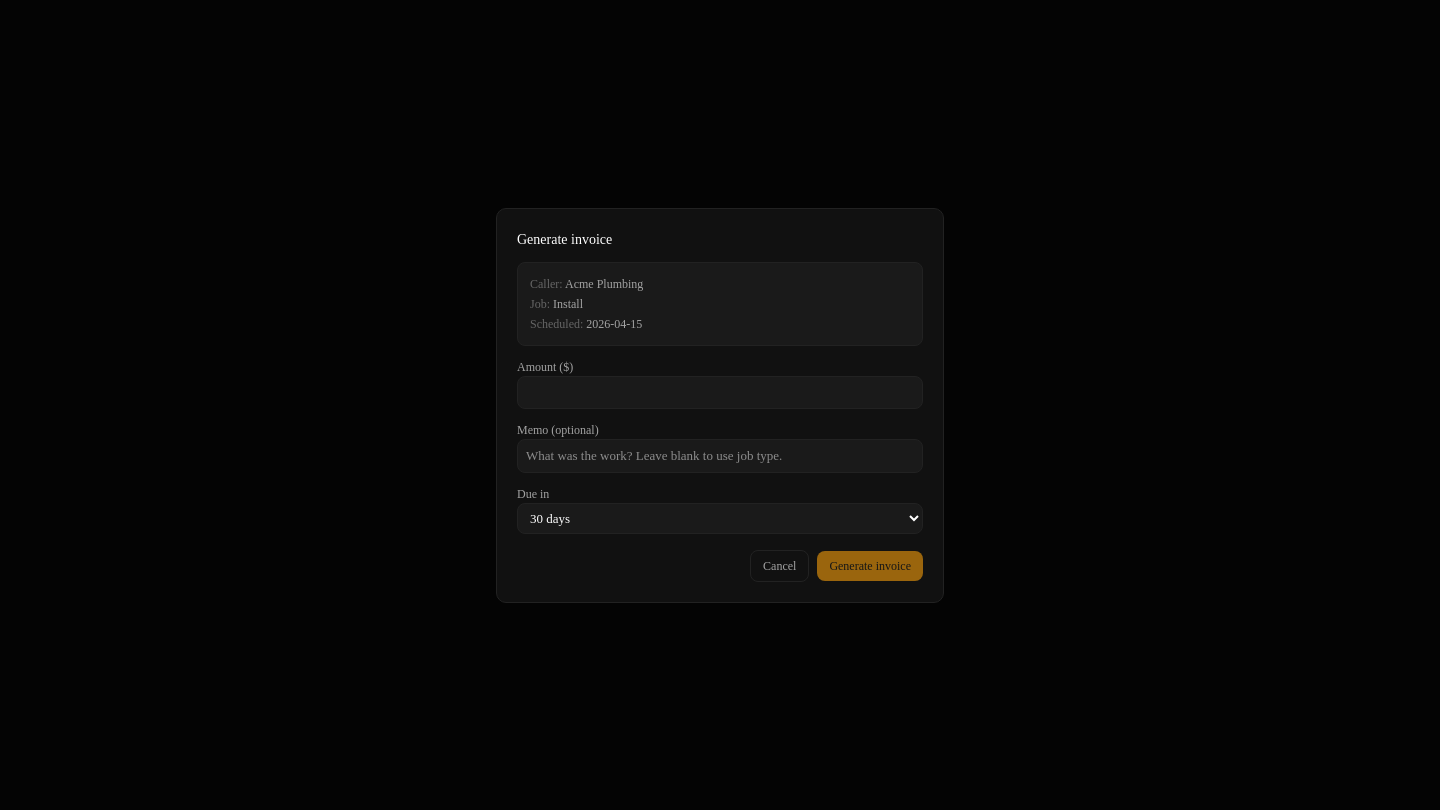
Test: InvoiceModal QB post-generation view › shows a muted 'not connected' message with link to Settings
In the number field labelled "Amount ($)": (720, 392) [517,376,923,409], type "500"
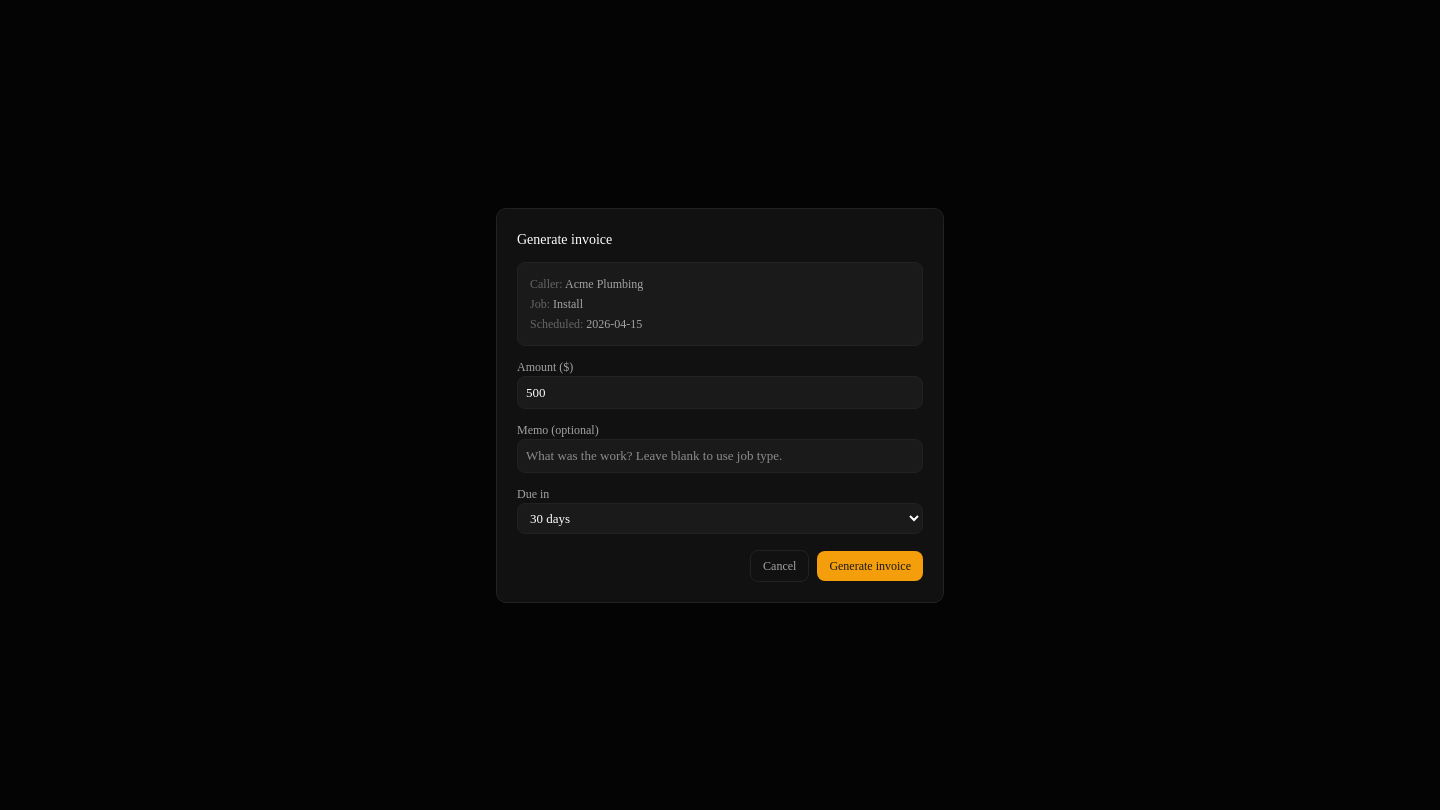
Click the button "Generate invoice": click(870, 566) [817,550,923,580]
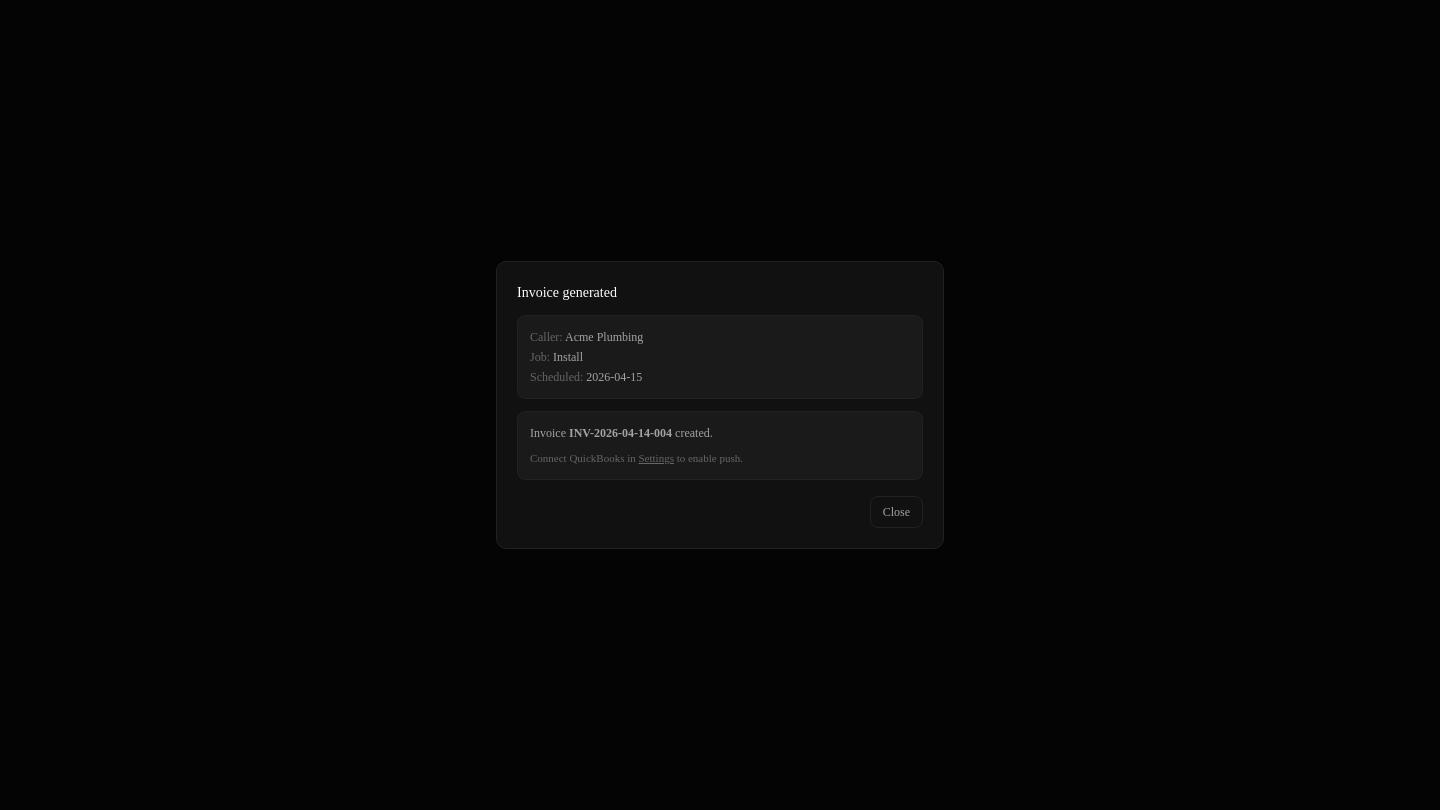
Now the heading "Invoice generated" is shown, box [517,282,617,303]
Now the element with test id "qb-not-connected" shows "Connect QuickBooks", box [530,452,636,464]
